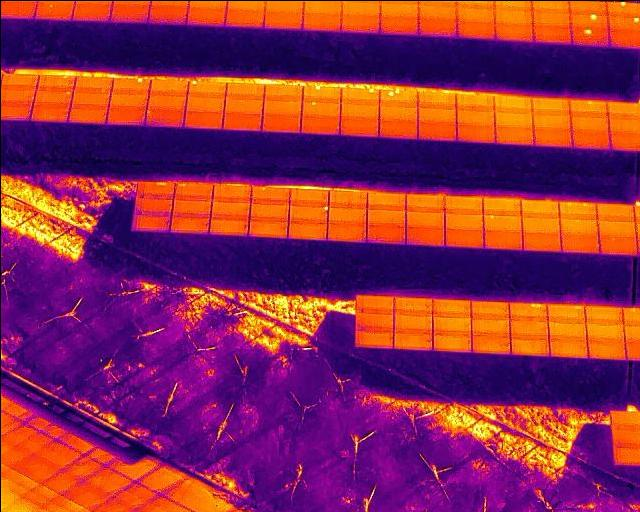Cell: (33, 0, 75, 19), (569, 28, 609, 46), (482, 215, 521, 233), (252, 187, 290, 204), (175, 183, 212, 200), (288, 206, 327, 222), (569, 100, 607, 116), (340, 89, 378, 105), (302, 102, 340, 117), (302, 86, 340, 101), (187, 81, 225, 96), (111, 78, 149, 93), (569, 13, 608, 27), (607, 0, 640, 15), (608, 15, 640, 30)
Cell-Multi: (509, 302, 547, 319), (558, 202, 596, 219), (379, 91, 417, 107)
No-Anomaly: (261, 10, 302, 31), (70, 1, 112, 21), (109, 2, 150, 22), (186, 6, 227, 25), (146, 4, 187, 23), (146, 107, 184, 127), (599, 234, 637, 254), (301, 13, 341, 32), (224, 8, 264, 27), (379, 16, 417, 35), (587, 339, 625, 358), (549, 337, 587, 356), (560, 234, 598, 253), (67, 105, 107, 123), (326, 223, 366, 241), (522, 232, 559, 251), (404, 193, 443, 211), (366, 193, 405, 211), (184, 111, 223, 129), (471, 334, 510, 352), (393, 331, 432, 349), (393, 313, 432, 331), (404, 227, 443, 245), (366, 225, 405, 243), (340, 16, 379, 34), (510, 336, 548, 354), (432, 332, 470, 350), (355, 329, 393, 347), (432, 315, 470, 333), (394, 296, 432, 314), (355, 294, 393, 312), (445, 229, 483, 247), (300, 116, 340, 133), (547, 304, 584, 322), (289, 189, 328, 206), (455, 125, 494, 142), (339, 119, 378, 136), (222, 113, 261, 130), (107, 108, 146, 125), (30, 104, 69, 121), (483, 232, 522, 249), (328, 191, 366, 208), (262, 114, 300, 131), (444, 196, 482, 213), (185, 95, 225, 111), (108, 92, 148, 108), (0, 0, 35, 18), (572, 130, 609, 147), (356, 312, 393, 329), (585, 306, 622, 323), (483, 198, 520, 215), (379, 122, 418, 138), (148, 79, 187, 95), (417, 21, 456, 37), (287, 222, 326, 238), (248, 221, 287, 237), (209, 218, 248, 234), (443, 213, 482, 229), (327, 208, 366, 224), (249, 204, 288, 220), (341, 0, 380, 16), (533, 98, 569, 115), (212, 185, 250, 201), (418, 124, 456, 140), (493, 96, 531, 112), (532, 28, 570, 44), (457, 23, 495, 39), (510, 320, 548, 336), (559, 218, 597, 234), (367, 211, 405, 227), (596, 205, 634, 221), (211, 202, 249, 218), (520, 200, 558, 216), (172, 200, 210, 216), (134, 199, 172, 215), (532, 11, 570, 27), (379, 2, 417, 18), (535, 129, 572, 145), (418, 108, 455, 124), (495, 24, 532, 40), (586, 323, 623, 339), (548, 321, 585, 337), (598, 220, 635, 236), (494, 129, 533, 144), (378, 107, 417, 122), (224, 98, 263, 113), (71, 91, 110, 106), (404, 212, 443, 227), (455, 8, 494, 23), (494, 113, 532, 128), (456, 111, 494, 126), (455, 95, 493, 110), (148, 94, 186, 109), (34, 90, 72, 105), (264, 85, 302, 100), (226, 83, 264, 98), (37, 75, 75, 90), (471, 317, 509, 332), (432, 300, 470, 315), (171, 218, 209, 233), (418, 5, 456, 20), (609, 131, 640, 149), (418, 93, 455, 108), (75, 77, 112, 92), (471, 302, 508, 317), (132, 216, 169, 231), (494, 9, 531, 24), (0, 88, 34, 104), (571, 116, 607, 131), (340, 105, 378, 119), (263, 100, 301, 114), (521, 218, 559, 232), (609, 31, 640, 48), (533, 116, 570, 130), (0, 75, 37, 89), (608, 103, 640, 117), (609, 117, 640, 131)
Unclassified: (137, 180, 174, 198)
